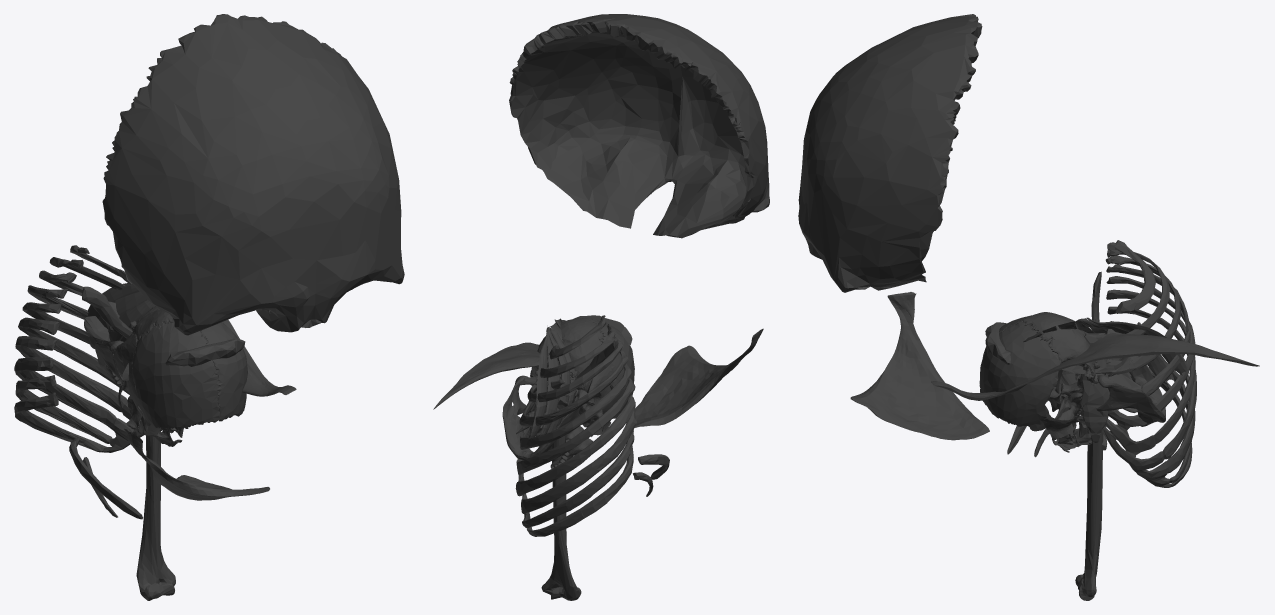
The model's file is sharedassets52.glb.
3 renders of one model, left to right at view 1: azimuth 30°, elevation 25°; view 2: azimuth 150°, elevation 25°; view 3: azimuth 270°, elevation 25°, orthographic. The views are drawn at different scales.
Parts seen in each view (by area): view 1: 0081_Frontal__001097, 0069_Parietal, R__001095, 0006_Humerus _arm, brachium_, R__000807, 0070_Parietal, L__001094, 0161_Eighth rib _08_, R__002280, 0000_UNWRAPPED Pectoralis major, sternocostal, 0170_Seventh rib _07_, R__002279, 0002_Serratus anterior, R__1000377, 0163_Tenth rib _10_, R__002282, 0162_Ninth rib _09_, R__002281, 0169_Sixth rib _06_, R__002278, 0157_Manubrium__001162 (+12 smaller); view 2: 0081_Frontal__001097, 0000_UNWRAPPED Pectoralis major, sternocostal, 0002_Serratus anterior, R__1000377, 0161_Eighth rib _08_, R__002280, 0001_Trapezius, R__1000437, 0006_Humerus _arm, brachium_, R__000807, 0170_Seventh rib _07_, R__002279, 0065_Mandible_body_001091, 0169_Sixth rib _06_, R__002278, 0162_Ninth rib _09_, R__002281, 0071_Occipital__001132, 0163_Tenth rib _10_, R__002282 (+9 smaller); view 3: 0081_Frontal__001097, 0000_UNWRAPPED Pectoralis major, sternocostal, 0070_Parietal, L__001094, 0001_Trapezius, R__1000437, 0006_Humerus _arm, brachium_, R__000807, 0002_Serratus anterior, R__1000377, 0169_Sixth rib _06_, R__002278, 0071_Occipital__001132, 0170_Seventh rib _07_, R__002279, 0065_Mandible_body_001091, 0119_Sphenoid__001143, 0158_Body of sternum__001163 (+7 smaller).
Boxes of the visible parts, <box> form: 0081_Frontal__001097: <box>102,14,404,335</box>; 0069_Parietal, R__001095: <box>132,321,220,430</box>; 0006_Humerus _arm, brachium_, R__000807: <box>136,431,175,600</box>; 0070_Parietal, L__001094: <box>200,323,247,421</box>; 0161_Eighth rib _08_, R__002280: <box>14,357,143,444</box>; 0000_UNWRAPPED Pectoralis major, sternocostal: <box>124,428,269,500</box>; 0170_Seventh rib _07_, R__002279: <box>15,336,131,419</box>; 0002_Serratus anterior, R__1000377: <box>84,283,222,377</box>; 0163_Tenth rib _10_, R__002282: <box>14,392,122,452</box>; 0162_Ninth rib _09_, R__002281: <box>15,375,129,449</box>; 0169_Sixth rib _06_, R__002278: <box>18,317,130,395</box>; 0157_Manubrium__001162: <box>165,337,245,366</box>; 0081_Frontal__001097: <box>509,14,769,238</box>; 0000_UNWRAPPED Pectoralis major, sternocostal: <box>634,328,763,427</box>; 0002_Serratus anterior, R__1000377: <box>529,318,578,440</box>; 0161_Eighth rib _08_, R__002280: <box>521,411,636,515</box>; 0001_Trapezius, R__1000437: <box>433,342,613,409</box>; 0006_Humerus _arm, brachium_, R__000807: <box>541,381,581,600</box>; 0170_Seventh rib _07_, R__002279: <box>515,395,635,496</box>; 0065_Mandible_body_001091: <box>502,375,587,460</box>; 0169_Sixth rib _06_, R__002278: <box>516,378,635,475</box>; 0162_Ninth rib _09_, R__002281: <box>522,430,634,527</box>; 0071_Occipital__001132: <box>530,317,604,392</box>; 0163_Tenth rib _10_, R__002282: <box>526,446,633,536</box>; 0081_Frontal__001097: <box>798,14,982,292</box>; 0000_UNWRAPPED Pectoralis major, sternocostal: <box>850,292,989,440</box>; 0070_Parietal, L__001094: <box>979,320,1061,431</box>; 0001_Trapezius, R__1000437: <box>931,333,1259,400</box>; 0006_Humerus _arm, brachium_, R__000807: <box>1075,431,1103,600</box>; 0002_Serratus anterior, R__1000377: <box>1023,317,1189,409</box>; 0169_Sixth rib _06_, R__002278: <box>1105,289,1195,454</box>; 0071_Occipital__001132: <box>1023,312,1095,381</box>; 0170_Seventh rib _07_, R__002279: <box>1102,306,1196,472</box>; 0065_Mandible_body_001091: <box>1096,365,1165,426</box>; 0119_Sphenoid__001143: <box>1043,382,1085,441</box>; 0158_Body of sternum__001163: <box>1079,333,1109,433</box>.
Bounding box in the file's own units: 0.175 × 0.3779 × 0.276.
1 material, 1 textured.
